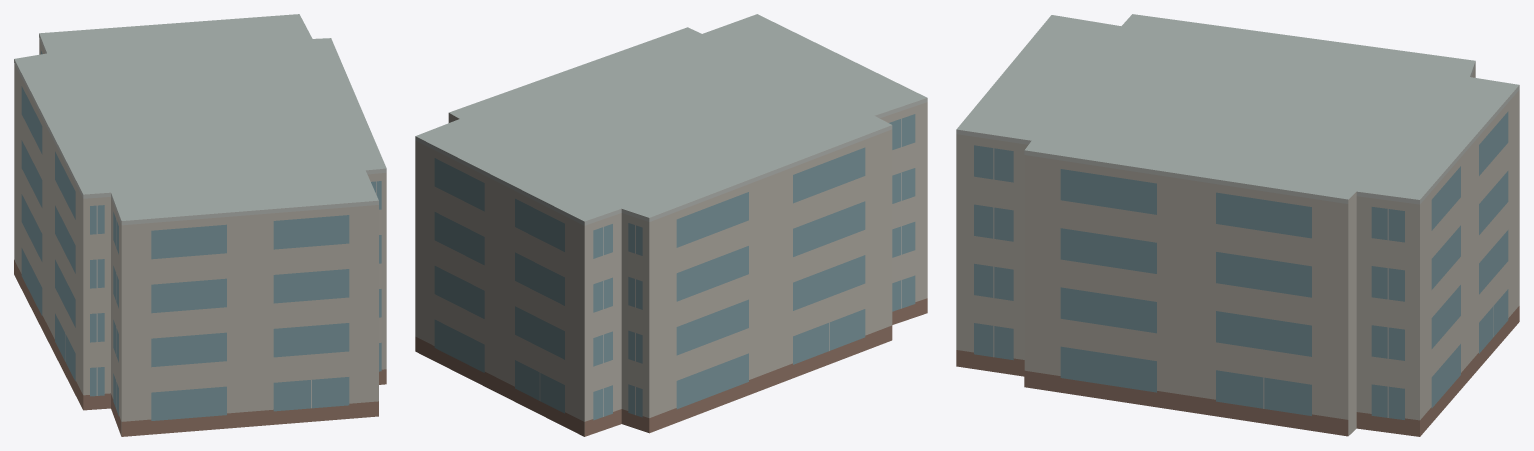
File: survey-upis-32854243.glb
The picture shows the model from 3 angles, left to right: view 1: azimuth 30°, elevation 25°; view 2: azimuth 150°, elevation 25°; view 3: azimuth 270°, elevation 25°; orthographic projection. The views are drawn at different scales.
Parts seen in each view (by area): view 1: survey-upis-32854243.tmp; view 2: survey-upis-32854243.tmp; view 3: survey-upis-32854243.tmp.
Part boxes in pixels (<box>): survey-upis-32854243.tmp: <box>14,14,386,436</box>; survey-upis-32854243.tmp: <box>415,14,927,436</box>; survey-upis-32854243.tmp: <box>956,14,1519,436</box>.
Size of the model in its own units: 21.06 by 12.5 by 26.95.
